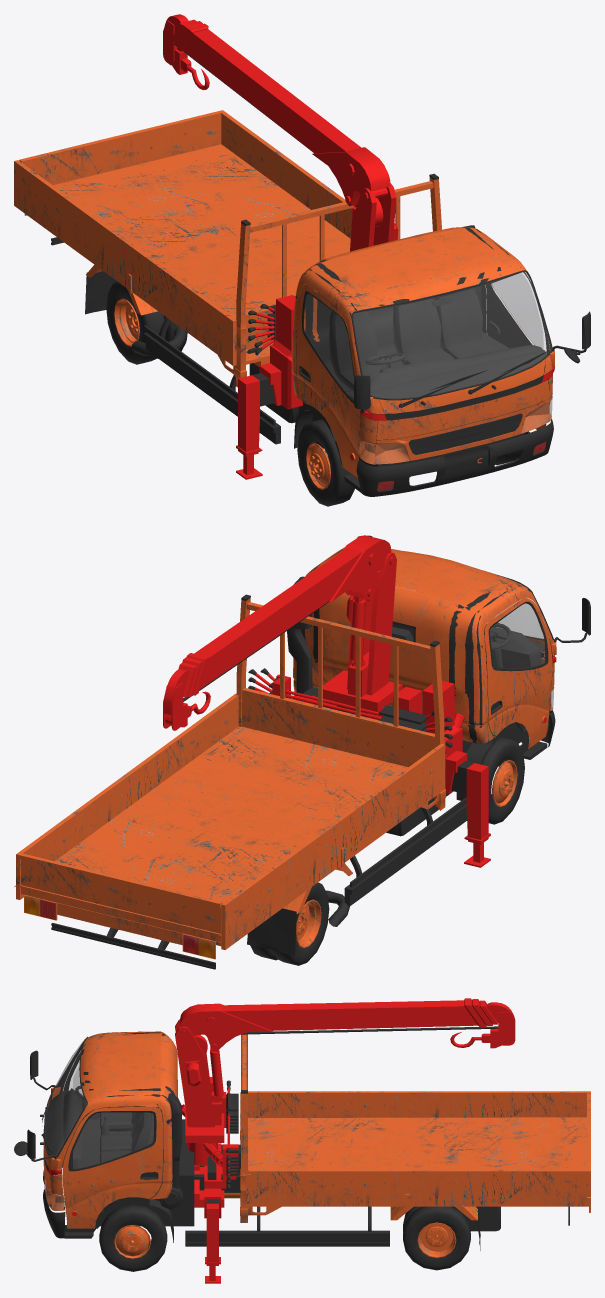
File: diaoche.FBX
3 views of the same model, one above another, from view 1: azimuth 30°, elevation 25°; view 2: azimuth 150°, elevation 25°; view 3: azimuth 270°, elevation 25° (orthographic). The views are drawn at different scales.
Parts seen in each view (by area): view 1: diaoche; view 2: diaoche; view 3: diaoche.
Boxes of the visible parts, left/top/right/bottom form: diaoche: left=14, top=14, right=590, bottom=506; diaoche: left=14, top=535, right=590, bottom=969; diaoche: left=14, top=998, right=590, bottom=1283.
Bounding box in the file's own units: 522 × 606 × 1352.
Materials: 6 (5 with a texture image).
